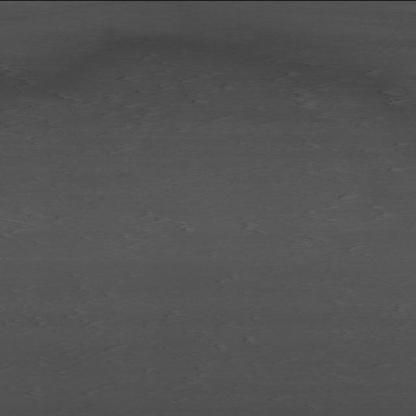silk_spot: (134, 54, 352, 117), (297, 189, 382, 246)
